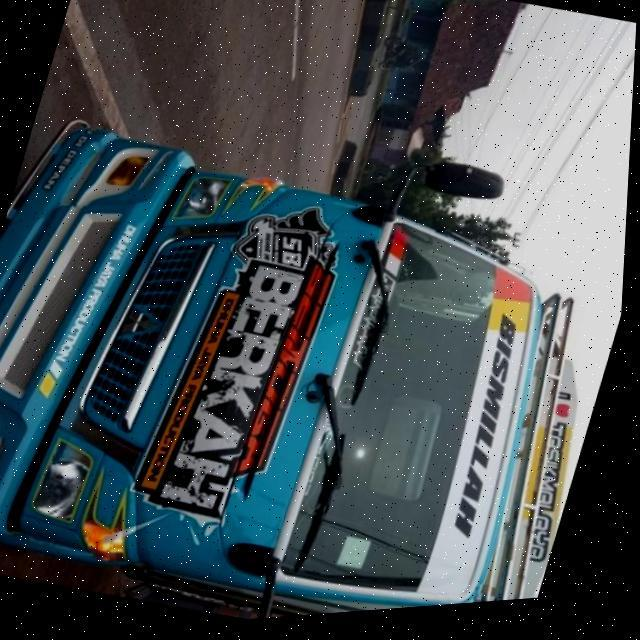truck: (0, 54, 636, 640)
